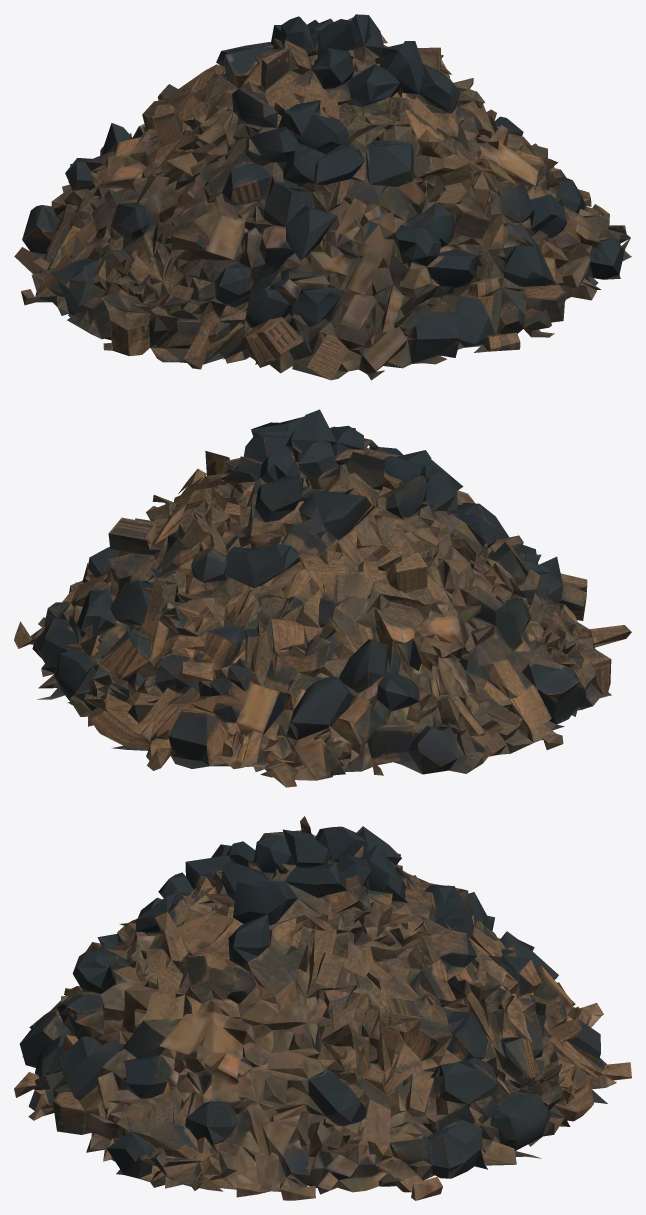
Rendered from giant_trash_mound.glb.
3 views of the same model, one above another, from view 1: azimuth 30°, elevation 25°; view 2: azimuth 150°, elevation 25°; view 3: azimuth 270°, elevation 25° (orthographic). The views are drawn at different scales.
Bounding box in the file's own units: 1.87 × 0.8142 × 1.83.
1 material, 1 textured.
